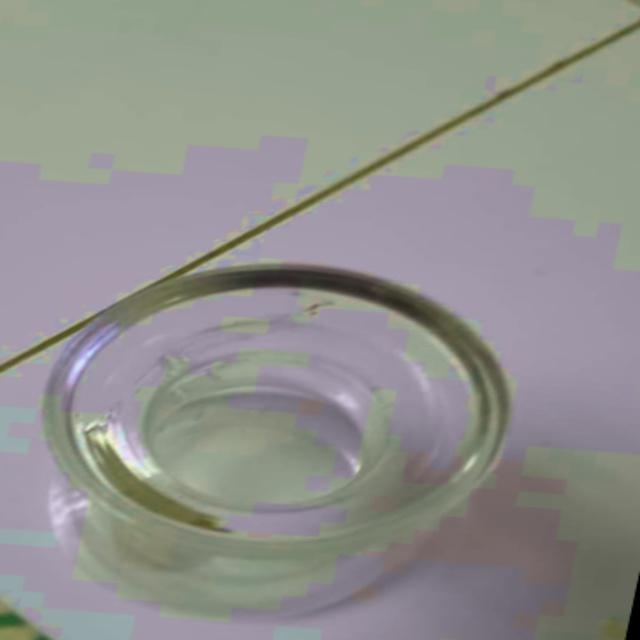Filtration Flask: (16, 223, 606, 606)
